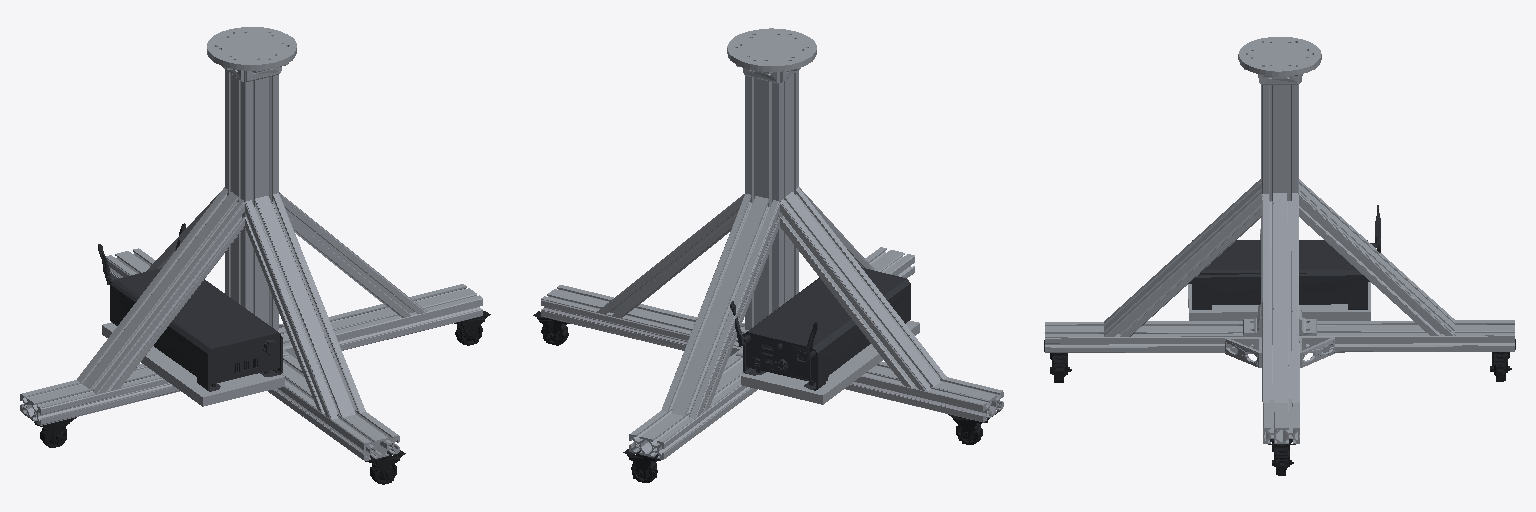
URDF robot description (utra_cart):
<?xml version="1.0" encoding="utf-8"?>
<!-- The aluminium-extrusion cart the UTRA 6-1000 stands on, from the SolidWorks assembly
     "UTRA 1000 Aluminum Extrusion Assembly" (see SOURCE.txt). Everything is in the arm's base_link
     frame: z up, origin at the centre of the base's mounting face; attach this link to base_link with
     a fixed joint at the identity. Collision: one box per part (the round mounting plate is a
     cylinder), and the floor as a thin box under the casters. Collision names label the parts. -->
<robot name="utra_cart">
  <link name="cart">
    <visual>
      <origin xyz="0 0 0" rpy="0 0 0"/>
      <geometry><mesh filename="meshes/frame.STL"/></geometry>
      <material name="Anodised"><color rgba="0.62 0.64 0.67 1"/></material>
    </visual>
    <visual>
      <origin xyz="0 0 0" rpy="0 0 0"/>
      <geometry><mesh filename="meshes/casters.STL"/></geometry>
      <material name="Rubber"><color rgba="0.16 0.17 0.18 1"/></material>
    </visual>
    <visual>
      <origin xyz="0 0 0" rpy="0 0 0"/>
      <geometry><mesh filename="meshes/controller.STL"/></geometry>
      <material name="Enclosure"><color rgba="0.24 0.25 0.27 1"/></material>
    </visual>
    <collision name="a corner bracket">  <!-- 15 Series 4 Hole - Wide Inside Corner Bracket-1 -->
      <origin xyz="0.05715 0.00044 -0.03175" rpy="-3.141593 -0.000000 1.578158"/>
      <geometry><box size="0.07137 0.03810 0.03810"/></geometry>
    </collision>
    <collision name="a corner bracket">  <!-- 15 Series 4 Hole - Wide Inside Corner Bracket-2 -->
      <origin xyz="-0.00042 0.05717 -0.03175" rpy="3.141593 -0.000000 -3.134231"/>
      <geometry><box size="0.07137 0.03810 0.03810"/></geometry>
    </collision>
    <collision name="a corner bracket">  <!-- 15 Series 4 Hole - Wide Inside Corner Bracket-3 -->
      <origin xyz="0.00042 -0.05713 -0.03175" rpy="3.141593 0.000000 0.007362"/>
      <geometry><box size="0.07137 0.03810 0.03810"/></geometry>
    </collision>
    <collision name="a corner bracket">  <!-- 15 Series 4 Hole - Wide Inside Corner Bracket-4 -->
      <origin xyz="-0.05715 -0.00040 -0.03175" rpy="3.141593 0.000000 -1.563435"/>
      <geometry><box size="0.07137 0.03810 0.03810"/></geometry>
    </collision>
    <collision name="a corner bracket">  <!-- 15 Series 4 Hole - Wide Inside Corner Bracket-5 -->
      <origin xyz="0.00042 -0.05713 -0.60325" rpy="1.570796 0.000000 0.007362"/>
      <geometry><box size="0.07137 0.03810 0.03810"/></geometry>
    </collision>
    <collision name="a corner bracket">  <!-- 15 Series 4 Hole - Wide Inside Corner Bracket-6 -->
      <origin xyz="-0.00042 0.05717 -0.60325" rpy="1.570796 -0.000000 -3.134231"/>
      <geometry><box size="0.07137 0.03810 0.03810"/></geometry>
    </collision>
    <collision name="a corner gusset">  <!-- 15 Series 4 Hole Inside Corner Gusset 4336-1 -->
      <origin xyz="0.07564 0.07678 -0.64135" rpy="0.000000 1.570796 0.007362"/>
      <geometry><box size="0.03332 0.07620 0.07620"/></geometry>
    </collision>
    <collision name="a corner gusset">  <!-- 15 Series 4 Hole Inside Corner Gusset 4336-2 -->
      <origin xyz="-0.07564 -0.07674 -0.64135" rpy="0.000000 -1.570796 1.578158"/>
      <geometry><box size="0.03332 0.07620 0.07620"/></geometry>
    </collision>
    <collision name="a corner gusset">  <!-- 15 Series 4 Hole Inside Corner Gusset 4336-3 -->
      <origin xyz="-0.07676 0.07566 -0.64135" rpy="0.000000 1.570796 1.578158"/>
      <geometry><box size="0.03332 0.07620 0.07620"/></geometry>
    </collision>
    <collision name="a corner gusset">  <!-- 15 Series 4 Hole Inside Corner Gusset 4336-4 -->
      <origin xyz="0.07676 -0.07561 -0.64135" rpy="0.000000 1.570796 -1.563435"/>
      <geometry><box size="0.03332 0.07620 0.07620"/></geometry>
    </collision>
    <collision name="a cart base bar">  <!-- 15x30 Aluminum Extrusion Base Half-1 -->
      <origin xyz="0.26034 0.00194 -0.64135" rpy="0.000000 -1.570796 -3.134231"/>
      <geometry><box size="0.03810 0.07620 0.44450"/></geometry>
    </collision>
    <collision name="a cart base bar">  <!-- 15x30 Aluminum Extrusion Base Half-2 -->
      <origin xyz="-0.26034 -0.00189 -0.64135" rpy="0.000000 1.570796 -3.134231"/>
      <geometry><box size="0.03810 0.07620 0.44450"/></geometry>
    </collision>
    <collision name="a cart base bar">  <!-- 15x30 Aluminum Extrusion Base-1 -->
      <origin xyz="-0.00000 0.00002 -0.64135" rpy="1.570796 0.000000 0.007362"/>
      <geometry><box size="0.07620 0.03810 0.96520"/></geometry>
    </collision>
    <collision name="a cart brace">  <!-- 15x30 Aluminum Extrusion Support-1 -->
      <origin xyz="0.18627 0.00139 -0.47413" rpy="-0.000000 0.785398 -3.134231"/>
      <geometry><box size="0.03810 0.07620 0.45720"/></geometry>
    </collision>
    <collision name="a cart brace">  <!-- 15x30 Aluminum Extrusion Support-2 -->
      <origin xyz="-0.00137 0.18629 -0.47413" rpy="-0.000000 0.785398 -1.563435"/>
      <geometry><box size="0.03810 0.07620 0.45720"/></geometry>
    </collision>
    <collision name="a cart brace">  <!-- 15x30 Aluminum Extrusion Support-3 -->
      <origin xyz="0.00137 -0.18625 -0.47413" rpy="-3.141593 0.785398 1.578158"/>
      <geometry><box size="0.03810 0.07620 0.45720"/></geometry>
    </collision>
    <collision name="a cart brace">  <!-- 15x30 Aluminum Extrusion Support-4 -->
      <origin xyz="-0.18627 -0.00135 -0.47413" rpy="-3.141593 0.785398 0.007362"/>
      <geometry><box size="0.03810 0.07620 0.45720"/></geometry>
    </collision>
    <collision name="the cart's column">  <!-- 30x30 Aluminum Extrusion Vertical Support-1 -->
      <origin xyz="-0.00000 0.00002 -0.31750" rpy="0.000000 -0.000000 0.007362"/>
      <geometry><box size="0.07620 0.07620 0.60960"/></geometry>
    </collision>
    <collision name="a cap screw">  <!-- 5-16x18 x 0p687in Flanged Button Head Socket Cap Screw-1 -->
      <origin xyz="0.01863 0.05731 -0.01235" rpy="0.000000 -1.570796 0.719551"/>
      <geometry><box size="0.02153 0.01695 0.01702"/></geometry>
    </collision>
    <collision name="a cap screw">  <!-- 5-16x18 x 0p687in Flanged Button Head Socket Cap Screw-2 -->
      <origin xyz="0.01877 0.03791 -0.03175" rpy="-0.465512 -0.000000 -1.563435"/>
      <geometry><box size="0.02153 0.01695 0.01702"/></geometry>
    </collision>
    <collision name="a caster">  <!-- 50mm Swivel Caster with Lock-1 -->
      <origin xyz="0.01414 0.45274 -0.69517" rpy="1.570796 0.000000 0.007362"/>
      <geometry><box size="0.09494 0.06954 0.06000"/></geometry>
    </collision>
    <collision name="a caster">  <!-- 50mm Swivel Caster with Lock-2 -->
      <origin xyz="0.47006 0.00348 -0.69517" rpy="1.570796 0.000000 0.007362"/>
      <geometry><box size="0.09494 0.06954 0.06000"/></geometry>
    </collision>
    <collision name="a caster">  <!-- 50mm Swivel Caster with Lock-3 -->
      <origin xyz="0.02080 -0.45244 -0.69517" rpy="1.570796 0.000000 0.007362"/>
      <geometry><box size="0.09494 0.06954 0.06000"/></geometry>
    </collision>
    <collision name="a caster">  <!-- 50mm Swivel Caster with Lock-4 -->
      <origin xyz="-0.43512 -0.00318 -0.69517" rpy="1.570796 0.000000 0.007362"/>
      <geometry><box size="0.09494 0.06954 0.06000"/></geometry>
    </collision>
    <collision name="the mounting plate">  <!-- Mounting Plate D170mm-1 -->
      <origin xyz="-0.00000 0.00002 -0.00635" rpy="0.000000 0.000000 0.007362"/>
      <geometry><cylinder radius="0.08500" length="0.01270"/></geometry>
    </collision>
    <collision name="the controller's plank">  <!-- NTRO Controller Mounting Plank-1 -->
      <origin xyz="-0.12810 -0.00092 -0.61278" rpy="1.570796 0.000000 -1.563435"/>
      <geometry><box size="0.37500 0.01905 0.18000"/></geometry>
    </collision>
    <collision name="the NTRO controller">  <!-- NTRO_350-750_3D_Model_V0.1.step-1 -->
      <origin xyz="-0.12017 0.00946 -0.52414" rpy="1.570796 0.000000 0.007362"/>
      <geometry><box size="0.19042 0.15822 0.39585"/></geometry>
    </collision>
    <collision name="the floor">
      <origin xyz="0 0 -0.73494" rpy="0 0 0"/>
      <geometry><box size="6 6 0.01"/></geometry>
    </collision>
  </link>
</robot>

--- Render facts (derived) ---
Views: 3 orthographic renders of the robot side by side, from view 1: azimuth 30°, elevation 25°; view 2: azimuth 150°, elevation 25°; view 3: azimuth 270°, elevation 25°.
Model utra_cart with 1 links and 0 joints (none), rooted at cart, posed all joints at 0.
Links seen in each view (by area): view 1: cart; view 2: cart; view 3: cart.
Link boxes in pixels (left/top/right/bottom): cart: left=20, top=27, right=490, bottom=484; cart: left=533, top=28, right=1003, bottom=482; cart: left=1044, top=37, right=1515, bottom=475.
Size in the robot's own frame: 1 by 0.968 by 0.728 metres.
Meshes: 3 distinct files referenced, 3 mesh visuals loaded (3 binary STL).
